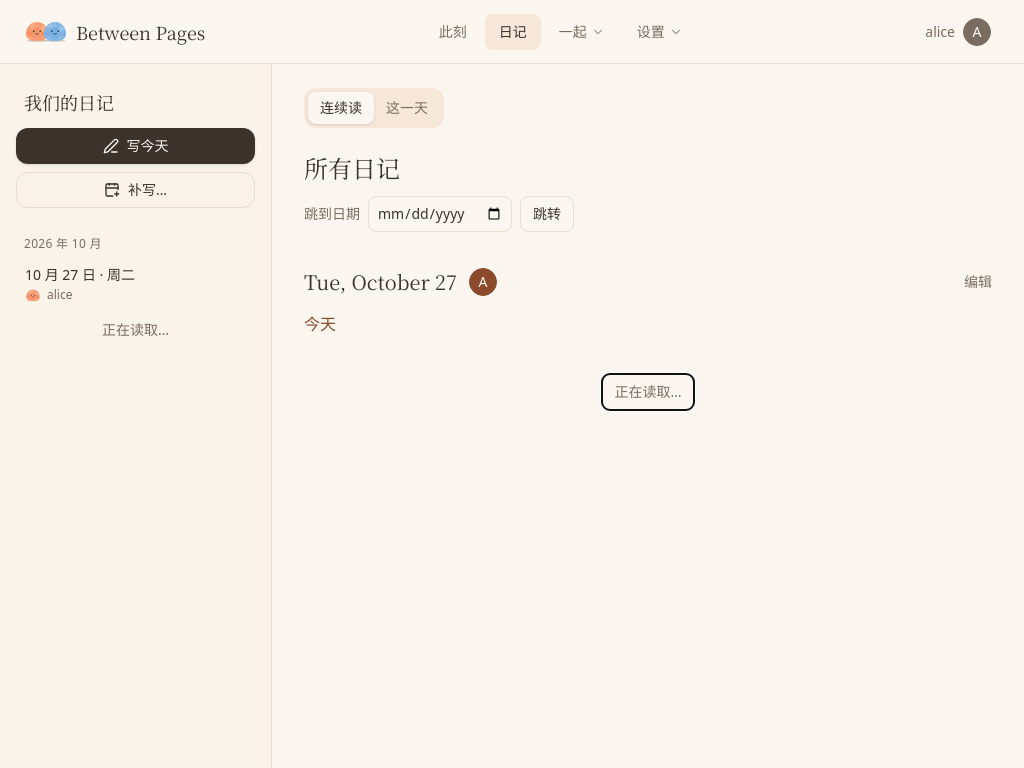
Test: DayFeed › keeps a keyboard user’s focus on a load button while its page loads and after
Later steps or results of the test are not shown.
Click the button named "加载更早的日记" at [648, 392], box [602,374,694,410]
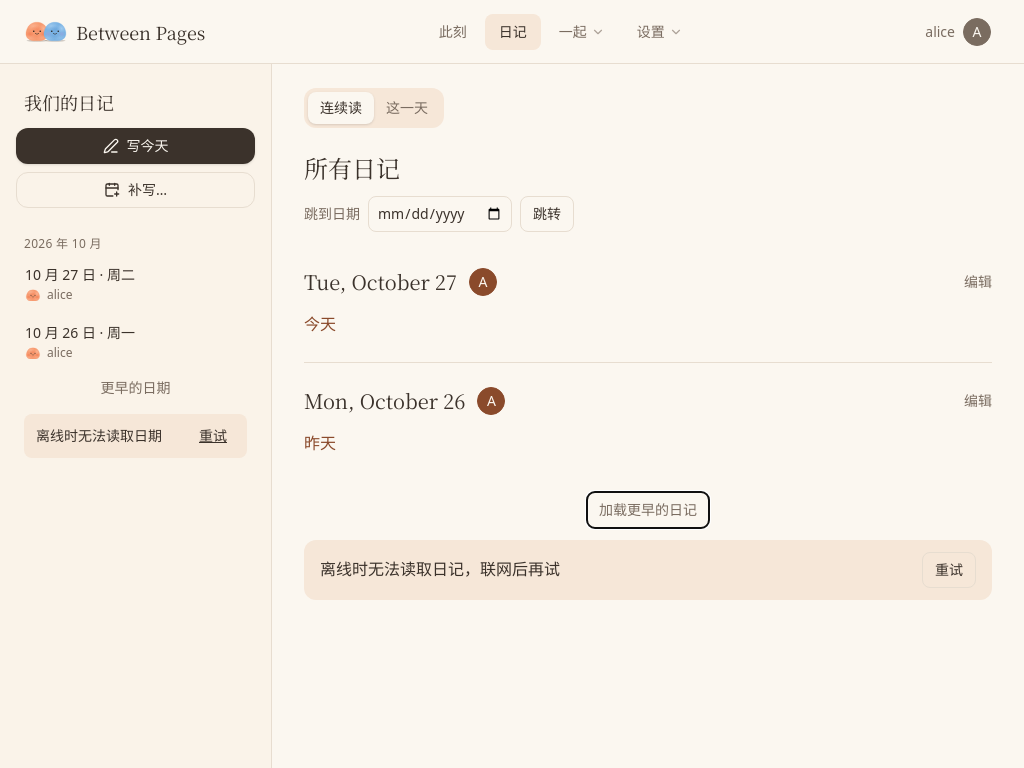
expect the text "昨天" is shown: met, box [304,432,336,454]
expect the button named "正在读取…" reads "加载更早的日记": met, box [587,492,709,528]
